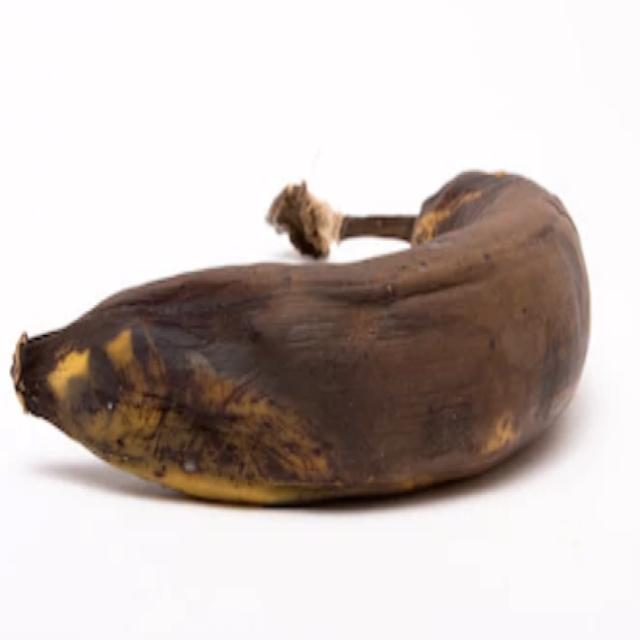rotten-banana: (9, 166, 592, 507)
